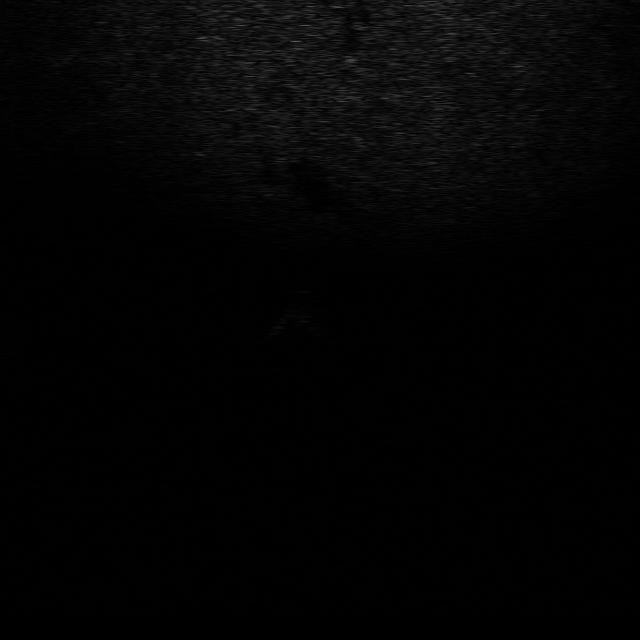human body: (269, 294, 321, 344)
